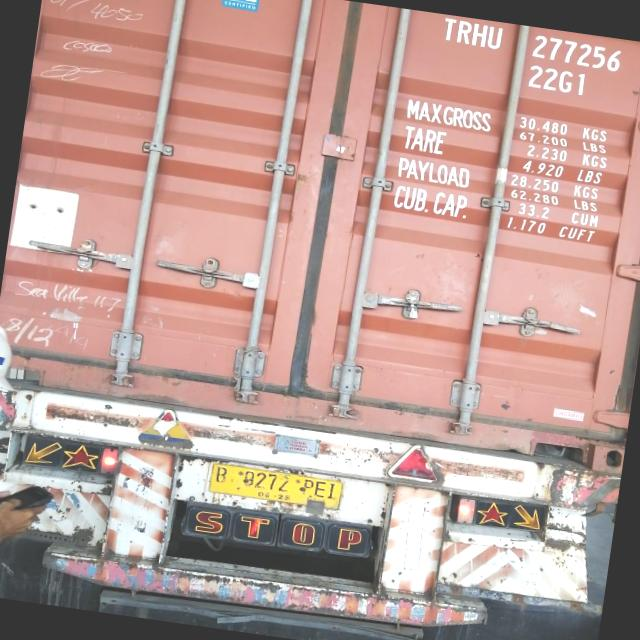seal: (398, 294, 426, 324)
